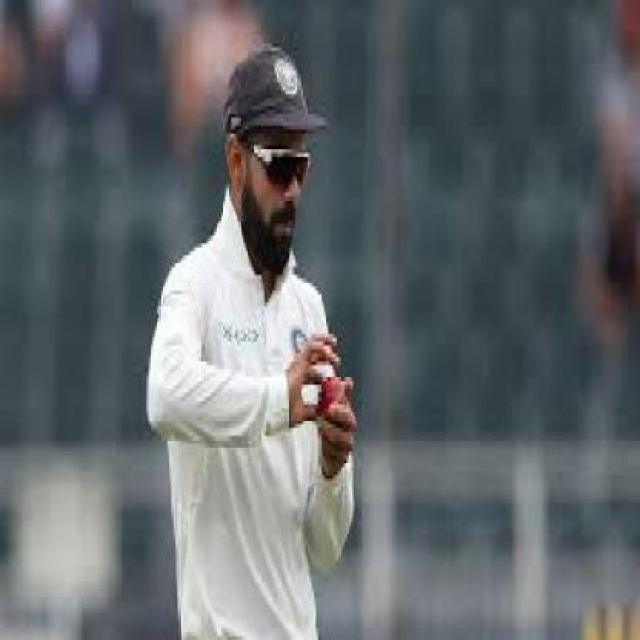ball: (295, 353, 377, 435)
